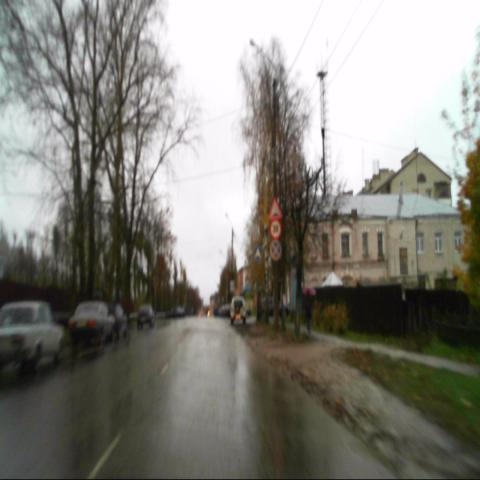3_27: (270, 239, 282, 262)
